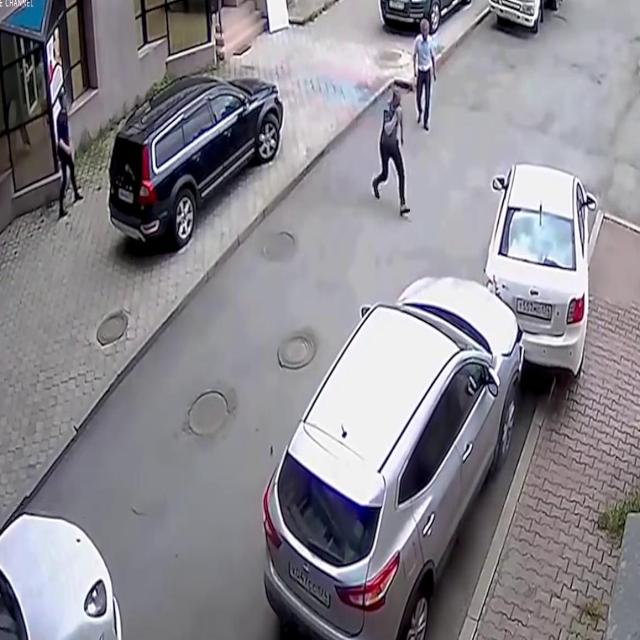accident: (256, 141, 600, 640)
